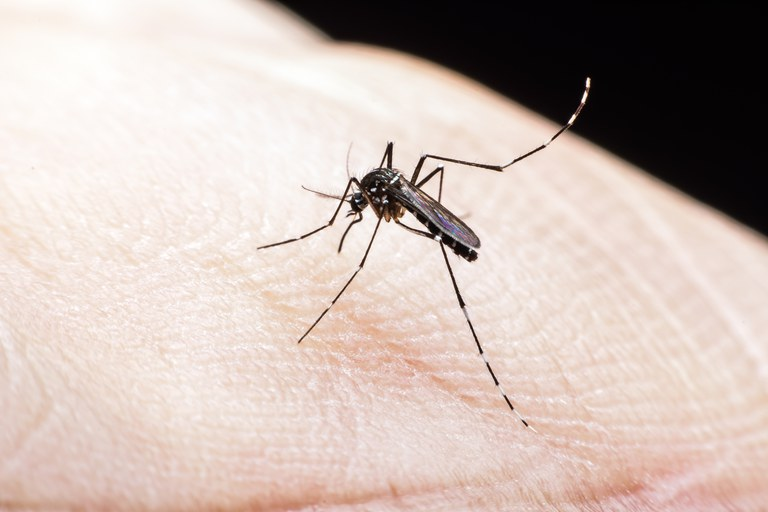dengue_mosquito: (256, 138, 487, 355)
